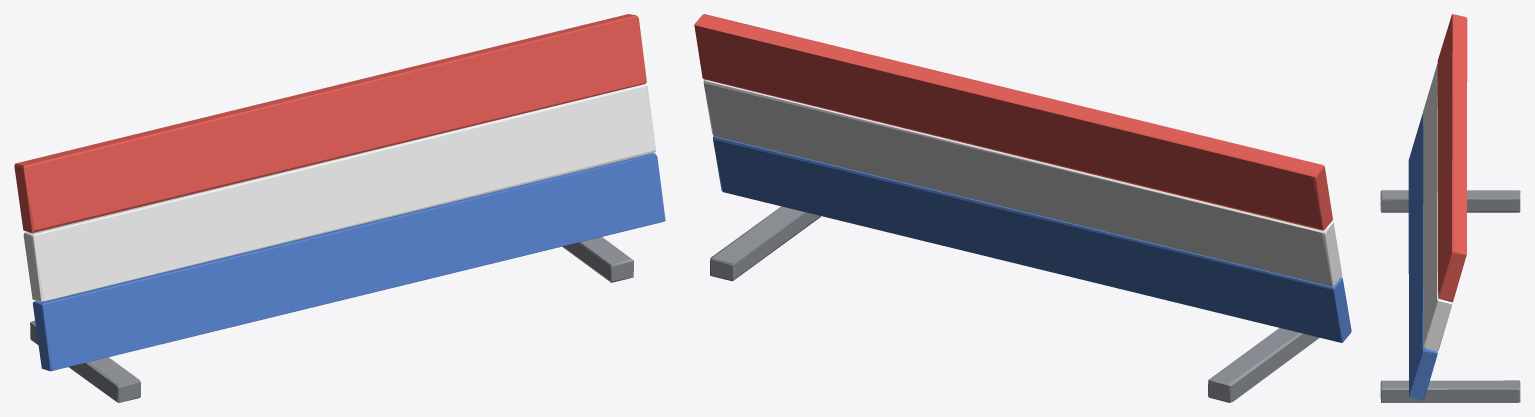
Rendered from barrier_lod1.fbx.
The picture shows the model from 3 angles, left to right: view 1: azimuth 30°, elevation 25°; view 2: azimuth 150°, elevation 25°; view 3: azimuth 270°, elevation 25°; orthographic projection. The views are drawn at different scales.
Parts seen in each view (by area): view 1: barrier_lod1; view 2: barrier_lod1; view 3: barrier_lod1.
Part boxes in pixels (x1,y1,x2,y2): barrier_lod1: (14,14,665,402); barrier_lod1: (694,14,1351,402); barrier_lod1: (1380,14,1520,402).
Bounding box in the file's own units: 2 × 0.6737 × 0.4974.
